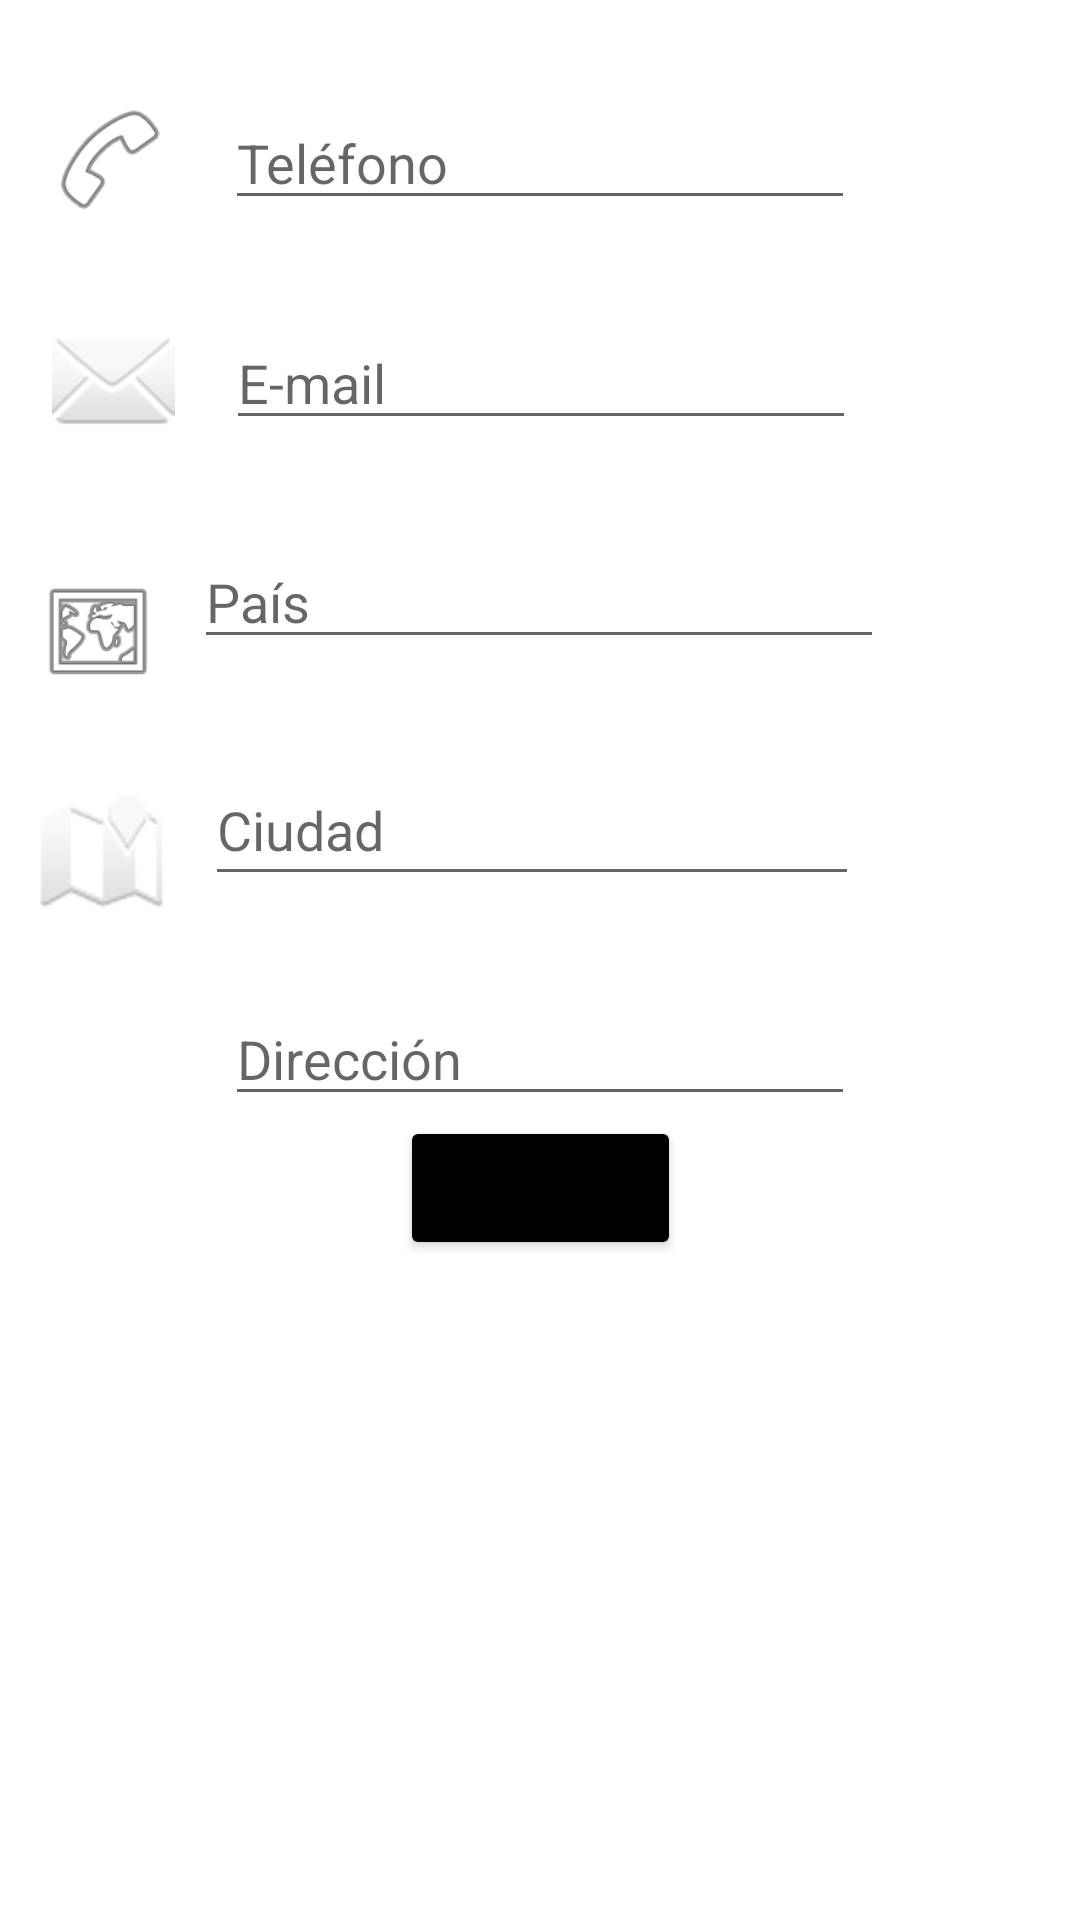

Where to tap for icons on this 1080x1920 app screen, as point (x, y):
call: point (110, 159)
map: point (101, 857)
mapmode: point (98, 631)
